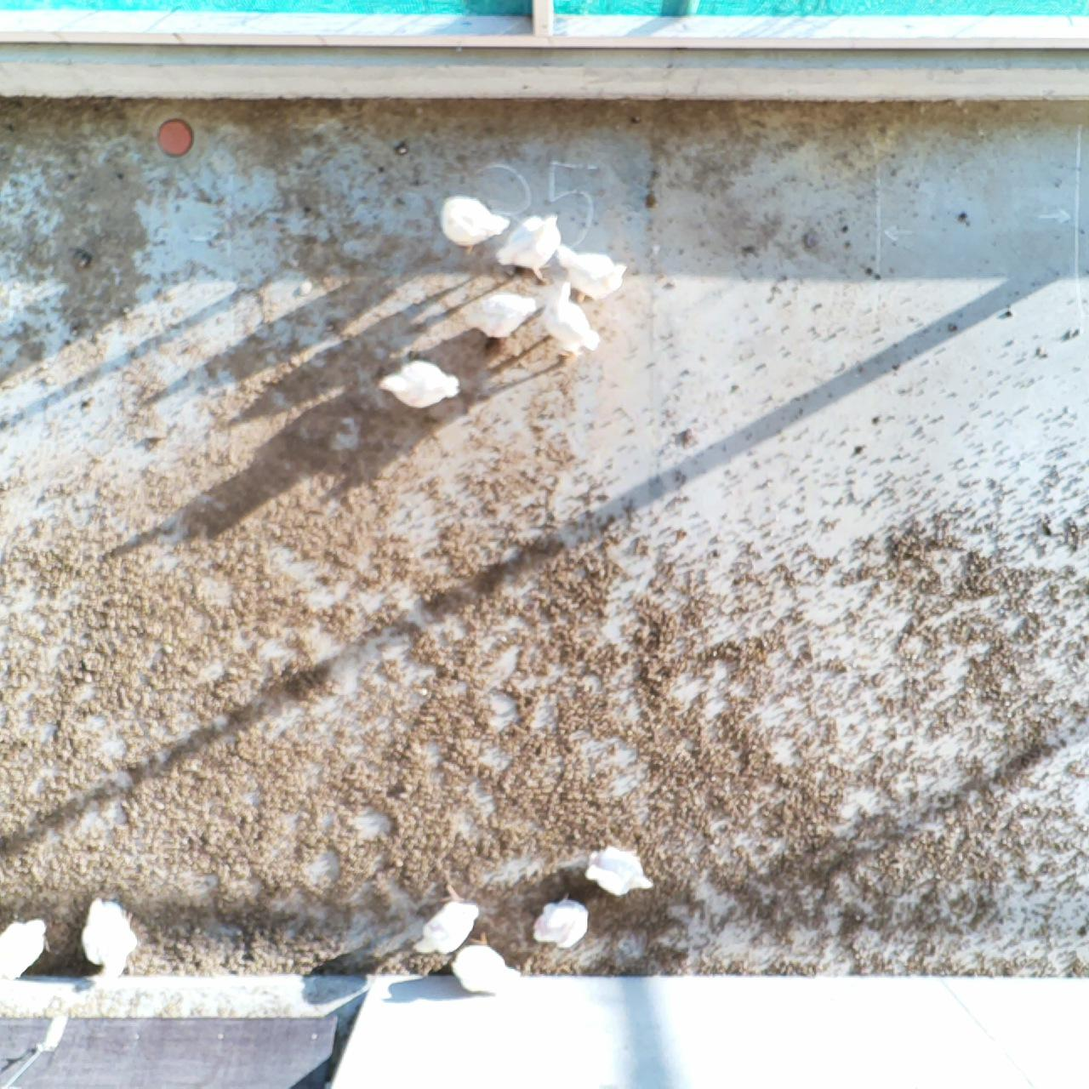chicken: (458, 281, 551, 352), (409, 879, 481, 960), (79, 890, 141, 984), (541, 273, 604, 362), (495, 209, 564, 288), (449, 927, 524, 999), (549, 241, 630, 306), (439, 190, 512, 257), (373, 358, 465, 411), (583, 840, 659, 900), (530, 890, 595, 951), (0, 915, 55, 983)
